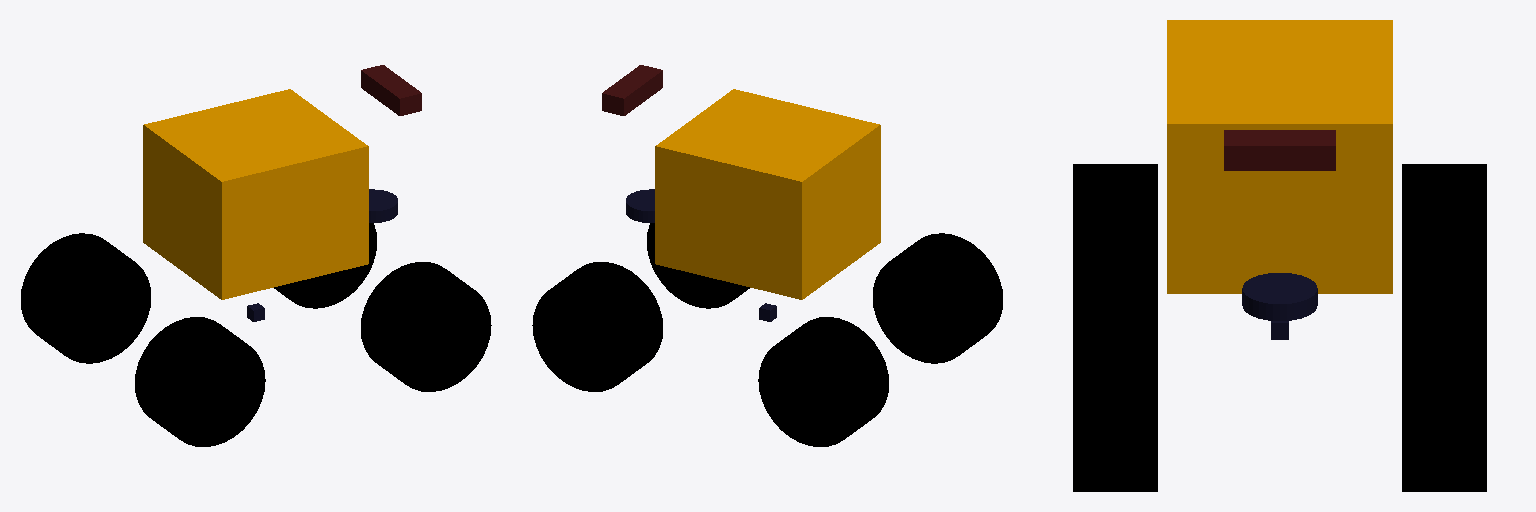
The robot description file, URDF, robot "limo_four_diff":
<?xml version="1.0" ?>
<!-- =================================================================================== -->
<!-- |    This document was autogenerated by xacro from ./limo_four_diff.xacro         | -->
<!-- |    EDITING THIS FILE BY HAND IS NOT RECOMMENDED                                 | -->
<!-- =================================================================================== -->
<robot name="limo_four_diff">
  <!-- Base link -->
  <link name="base_link">
    <visual>
      <!--origin xyz="0 0 -0.15" rpy="0 0 1.57" /-->
      <origin rpy="0 0 0" xyz="0 0 0"/>
      <geometry>
        <box size="0.13 0.12 0.1"/>
      </geometry>
    </visual>
    <collision>
      <!--origin xyz="0 0 -0.15" rpy="0 0 1.57" /-->
      <origin rpy="0 0 0" xyz="0 0 0"/>
      <geometry>
        <box size="0.13 0.12 0.1"/>
      </geometry>
    </collision>
    <inertial>
      <origin xyz="0.0 0.0 0.0"/>
      <mass value="2.1557"/>
      <inertia ixx="0.24" ixy="0" ixz="0" iyy="0.96" iyz="0" izz="0.96"/>
    </inertial>
  </link>
  <link name="laser_link">
    <inertial>
      <mass value="0.1"/>
      <origin rpy="0 0 0" xyz="0 0 0"/>
      <inertia ixx="1e-6" ixy="0" ixz="0" iyy="1e-6" iyz="0" izz="1e-6"/>
    </inertial>
    <visual name="laser_visual">
      <origin rpy="0 0 0" xyz="0 0 0"/>
      <geometry>
        <cylinder length="0.01" radius="0.02"/>
      </geometry>
      <!-- URDF material is okay, but Webots may ignore it; harmless -->
      <material name="laser_material">
        <color rgba="0.1 0.1 0.2 1"/>
      </material>
    </visual>
    <collision name="laser_collision">
      <origin rpy="0 0 0" xyz="0 0 0"/>
      <geometry>
        <cylinder length="0.016" radius="0.032"/>
      </geometry>
    </collision>
  </link>
  <joint name="laser_joint" type="fixed">
    <origin rpy="0 0 0" xyz="0.103 0 -0.034"/>
    <parent link="base_link"/>
    <child link="laser_link"/>
  </joint>
  <link name="imu_link">
    <inertial>
      <mass value="0.01"/>
      <origin rpy="0 0 0" xyz="0 0 0"/>
      <inertia ixx="1e-7" ixy="0" ixz="0" iyy="1e-7" iyz="0" izz="1e-7"/>
    </inertial>
    <visual name="imu_visual">
      <origin rpy="0 0 0" xyz="0 0 0"/>
      <geometry>
        <box size="0.01 0.01 0.01"/>
      </geometry>
      <material name="imu_material">
        <color rgba="0.1 0.1 0.2 1"/>
      </material>
    </visual>
    <collision name="imu_collision">
      <origin rpy="0 0 0" xyz="0 0 0"/>
      <geometry>
        <box size="0.01 0.01 0.01"/>
      </geometry>
    </collision>
  </link>
  <joint name="imu_joint" type="fixed">
    <origin rpy="0 0 0" xyz="0.0 0 -0.1"/>
    <parent link="base_link"/>
    <child link="imu_link"/>
  </joint>
  <link name="depth_camera_link">
    <inertial>
      <mass value="0.1"/>
      <origin rpy="0 0 0" xyz="0.0 0 0"/>
      <inertia ixx="1e-6" ixy="0" ixz="0" iyy="1e-6" iyz="0" izz="1e-6"/>
    </inertial>
    <visual name="depth_camera_visual">
      <origin rpy="0 0 0" xyz="0 0 0"/>
      <geometry>
        <box size="0.02 0.06 0.015"/>
      </geometry>
      <material name="depth_camera_material">
        <color rgba="0.3 0.1 0.1 1"/>
      </material>
    </visual>
    <collision name="depth_camera_collision">
      <origin rpy="0 0 0" xyz="0 0 0"/>
      <geometry>
        <box size="0.02 0.06 0.015"/>
      </geometry>
    </collision>
  </link>
  <joint name="depth_camera_joint" type="fixed">
    <origin rpy="0 0 0" xyz="0.12 0 0.06"/>
    <child link="depth_camera_link"/>
    <parent link="base_link"/>
  </joint>
  <link name="depth_link"/>
  <joint name="depth_camera_to_camera_joint" type="fixed">
    <origin rpy="-1.570795 0 -1.570795 " xyz="0 0 0"/>
    <parent link="depth_camera_link"/>
    <child link="depth_link"/>
  </joint>
  <link name="front_left_wheel_link">
    <inertial>
      <origin rpy="0 0 0" xyz="0 0 0"/>
      <mass value="0.5"/>
      <inertia ixx="0.01055" ixy="0" ixz="0" iyy="0.00075" iyz="0" izz="0.01055"/>
    </inertial>
    <visual>
      <origin rpy="1.5708 0 0" xyz="0 0.0225 0"/>
      <geometry>
        <cylinder length="0.045" radius="0.045"/>
      </geometry>
      <material name="front_left_material">
        <color rgba="0.0 0.0 0.0 1"/>
      </material>
    </visual>
    <collision>
      <!-- Cylinder is rotated so its axis matches joint axis (Y) -->
      <origin rpy="1.5708 0 0" xyz="0 0.0225 0"/>
      <geometry>
        <cylinder length="0.045" radius="0.045"/>
      </geometry>
    </collision>
  </link>
  <joint name="front_left_wheel_joint" type="continuous">
    <parent link="base_link"/>
    <child link="front_left_wheel_link"/>
    <origin rpy="0 0  0" xyz="0.1 0.065 -0.1"/>
    <!-- Wheel rotation axis in parent frame -->
    <axis xyz="0 1 0"/>
  </joint>
  <link name="front_right_wheel_link">
    <inertial>
      <origin rpy="0 0 0" xyz="0 0 0"/>
      <mass value="0.5"/>
      <inertia ixx="0.01055" ixy="0" ixz="0" iyy="0.00075" iyz="0" izz="0.01055"/>
    </inertial>
    <visual>
      <origin rpy="1.5708 0 0" xyz="0 0.0225 0"/>
      <geometry>
        <cylinder length="0.045" radius="0.045"/>
      </geometry>
      <material name="front_right_material">
        <color rgba="0.0 0.0 0.0 1"/>
      </material>
    </visual>
    <collision>
      <!-- Cylinder is rotated so its axis matches joint axis (Y) -->
      <origin rpy="1.5708 0 0" xyz="0 0.0225 0"/>
      <geometry>
        <cylinder length="0.045" radius="0.045"/>
      </geometry>
    </collision>
  </link>
  <joint name="front_right_wheel_joint" type="continuous">
    <parent link="base_link"/>
    <child link="front_right_wheel_link"/>
    <origin rpy="3.14159 0 0" xyz="0.1 -0.065 -0.1"/>
    <!-- Wheel rotation axis in parent frame -->
    <axis xyz="0 -1 0"/>
  </joint>
  <link name="rear_left_wheel_link">
    <inertial>
      <origin rpy="0 0 0" xyz="0 0 0"/>
      <mass value="0.5"/>
      <inertia ixx="0.01055" ixy="0" ixz="0" iyy="0.00075" iyz="0" izz="0.01055"/>
    </inertial>
    <visual>
      <origin rpy="1.5708 0 0" xyz="0 0.0225 0"/>
      <geometry>
        <cylinder length="0.045" radius="0.045"/>
      </geometry>
      <material name="rear_left_material">
        <color rgba="0.0 0.0 0.0 1"/>
      </material>
    </visual>
    <collision>
      <!-- Cylinder is rotated so its axis matches joint axis (Y) -->
      <origin rpy="1.5708 0 0" xyz="0 0.0225 0"/>
      <geometry>
        <cylinder length="0.045" radius="0.045"/>
      </geometry>
    </collision>
  </link>
  <joint name="rear_left_wheel_joint" type="continuous">
    <parent link="base_link"/>
    <child link="rear_left_wheel_link"/>
    <origin rpy="0 0 0" xyz="-0.1 0.065 -0.1"/>
    <!-- Wheel rotation axis in parent frame -->
    <axis xyz="0 1 0"/>
  </joint>
  <link name="rear_right_wheel_link">
    <inertial>
      <origin rpy="0 0 0" xyz="0 0 0"/>
      <mass value="0.5"/>
      <inertia ixx="0.01055" ixy="0" ixz="0" iyy="0.00075" iyz="0" izz="0.01055"/>
    </inertial>
    <visual>
      <origin rpy="1.5708 0 0" xyz="0 0.0225 0"/>
      <geometry>
        <cylinder length="0.045" radius="0.045"/>
      </geometry>
      <material name="rear_right_material">
        <color rgba="0.0 0.0 0.0 1"/>
      </material>
    </visual>
    <collision>
      <!-- Cylinder is rotated so its axis matches joint axis (Y) -->
      <origin rpy="1.5708 0 0" xyz="0 0.0225 0"/>
      <geometry>
        <cylinder length="0.045" radius="0.045"/>
      </geometry>
    </collision>
  </link>
  <joint name="rear_right_wheel_joint" type="continuous">
    <parent link="base_link"/>
    <child link="rear_right_wheel_link"/>
    <origin rpy="3.14159 0 0" xyz="-0.1 -0.065 -0.1"/>
    <!-- Wheel rotation axis in parent frame -->
    <axis xyz="0 -1 0"/>
  </joint>
</robot>

--- Render facts (derived) ---
Views: 3 orthographic renders of the robot side by side, from view 1: azimuth 30°, elevation 25°; view 2: azimuth 150°, elevation 25°; view 3: azimuth 270°, elevation 25°.
Robot: limo_four_diff — 9 links, 8 joints (4 continuous, 4 fixed); root link base_link; default pose: every joint at zero.
Visible links, largest first — view 1: base_link, front_right_wheel_link, rear_left_wheel_link, rear_right_wheel_link, front_left_wheel_link, depth_camera_link, laser_link; view 2: base_link, front_left_wheel_link, rear_right_wheel_link, rear_left_wheel_link, front_right_wheel_link, depth_camera_link, laser_link; view 3: base_link, front_left_wheel_link, front_right_wheel_link, rear_left_wheel_link, rear_right_wheel_link, depth_camera_link, laser_link.
Link boxes in pixels (bbox=[...]): base_link: bbox=[143, 89, 368, 299]; front_right_wheel_link: bbox=[361, 262, 491, 391]; rear_left_wheel_link: bbox=[21, 233, 150, 363]; rear_right_wheel_link: bbox=[135, 317, 265, 446]; front_left_wheel_link: bbox=[274, 223, 376, 308]; depth_camera_link: bbox=[361, 65, 421, 115]; laser_link: bbox=[369, 189, 397, 222]; base_link: bbox=[655, 89, 880, 299]; front_left_wheel_link: bbox=[532, 262, 662, 391]; rear_right_wheel_link: bbox=[873, 233, 1002, 363]; rear_left_wheel_link: bbox=[758, 317, 888, 446]; front_right_wheel_link: bbox=[647, 223, 749, 308]; depth_camera_link: bbox=[602, 65, 662, 115]; laser_link: bbox=[626, 189, 654, 222]; base_link: bbox=[1167, 20, 1392, 293]; front_left_wheel_link: bbox=[1402, 323, 1486, 491]; front_right_wheel_link: bbox=[1073, 323, 1157, 491]; rear_left_wheel_link: bbox=[1402, 164, 1486, 322]; rear_right_wheel_link: bbox=[1073, 164, 1157, 322]; depth_camera_link: bbox=[1224, 130, 1335, 170]; laser_link: bbox=[1242, 273, 1317, 320].
Size in the robot's own frame: 0.29 by 0.22 by 0.2125 metres.
Geometry: primitives only (box / cylinder / sphere), no mesh files.